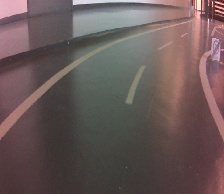zone 30 stop sign: (210, 36, 222, 62)
